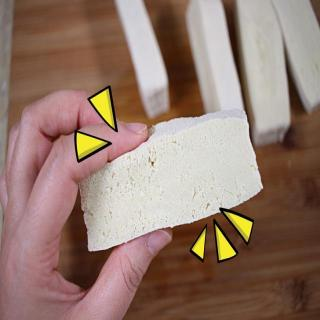Tahu: (48, 98, 270, 262)
